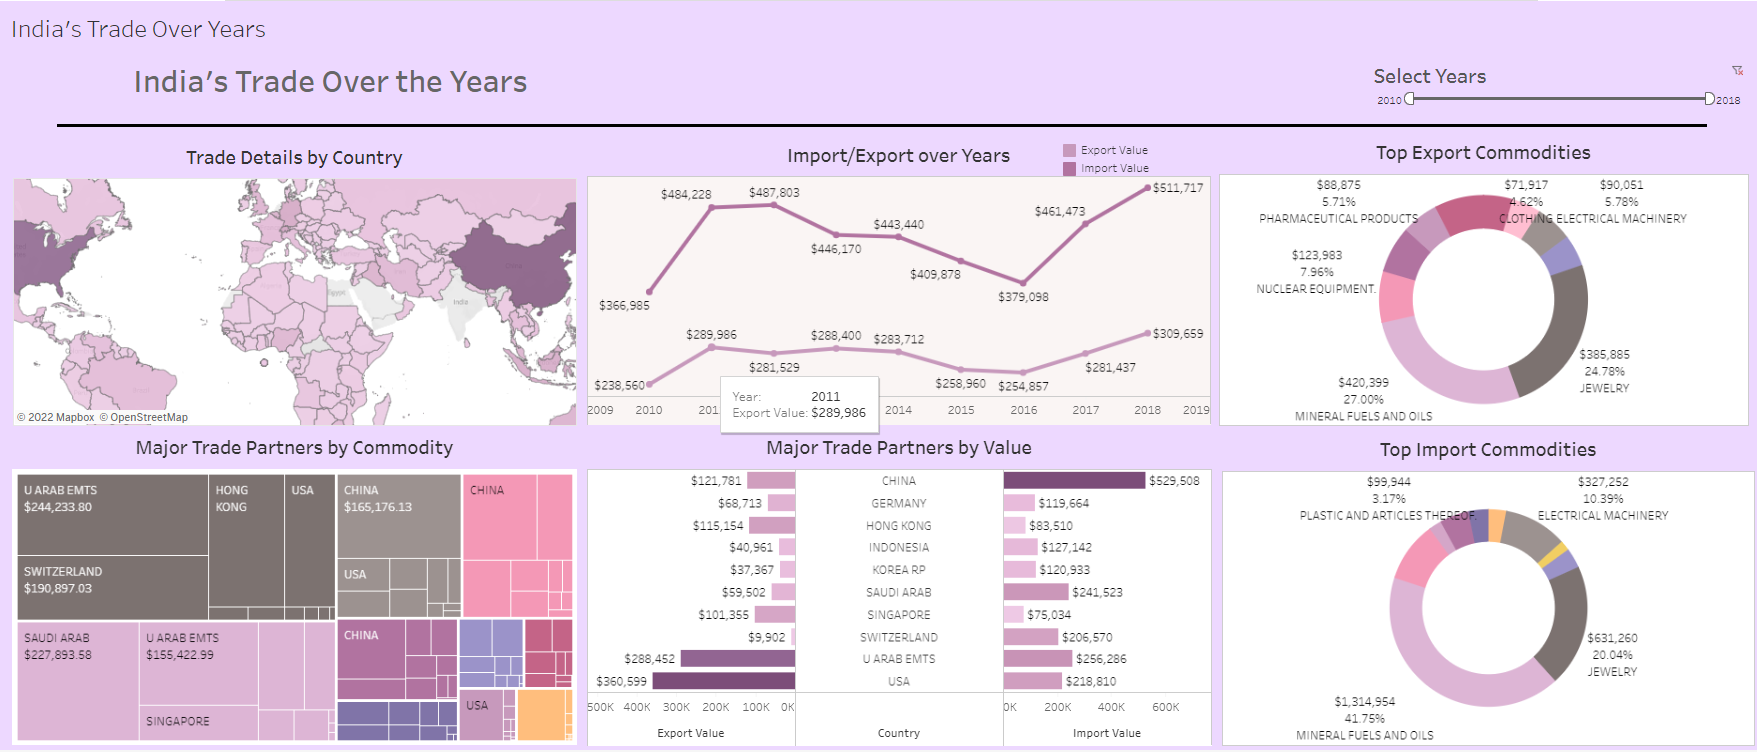

The page's visual inventory and layout, read from the dashboard file:
{"tool":"tableau","page":{"name":"India's Trade Over Years","canvas":[1000,1000],"units":"permille","ordinal":0},"visuals":[{"type":"title","box":[4.8,9.3,990.3,58.1]},{"type":"text","box":[9.1,70.9,357.9,68.5]},{"type":"filter","title":"Import/Export over Years","param":"[federated.1u60l3v0wn3ac21cdd1en023pxeh].[none:year:qk]","box":[779.1,81.3,210.6,73.2]},{"type":"blank","box":[33.2,163.8,935.4,3.5]},{"type":"worksheet","title":"Top Export Commodities","mark":"Pie","rows":["Calculation_1341228295351496705","Calculation_1341228295351496705"],"box":[691.6,176.5,301.2,390.2]},{"type":"worksheet","title":"Import/Export over Years","mark":"Automatic","rows":["import_value","export_value"],"cols":["year"],"box":[333.1,180,354.2,385.6]},{"type":"worksheet","title":"Trade Details by Country","mark":"Multipolygon","box":[7.9,182.3,319.9,384.4]},{"type":"legend","title":"Import/Export over Years","param":"[federated.1u60l3v0wn3ac21cdd1en023pxeh].[:Measure Names]","box":[601.7,185.8,84.5,52.3]},{"type":"worksheet","title":"Major Trade Partners by Commodity","mark":"Automatic","box":[7.2,570.3,320.5,423.9]},{"type":"worksheet","title":"Major Trade Partners by Value","mark":"Automatic","rows":["country"],"cols":["export_value","Calculation_1341228295351496705","import_value"],"box":[333.1,570.3,354.9,423.9]},{"type":"worksheet","title":"Top Import Commodities","mark":"Pie","rows":["Calculation_1341228295351496705","Calculation_1341228295351496705"],"box":[693.4,572.6,303,421.6]}]}

Visuals, with their boxes on the dashboard's canvas, which has no fixed pixel size, in thousandths of its width and height (x1, y1, x2, y2). These are canvas units, not pixel positions in the 1757x752 screenshot, which may show the page scaled, cropped or inside an application window:
title: <bbox>5, 9, 995, 67</bbox>
text: <bbox>9, 71, 367, 139</bbox>
"Import/Export over Years" filter: <bbox>779, 81, 990, 154</bbox>
blank: <bbox>33, 164, 969, 167</bbox>
"Top Export Commodities" worksheet (Pie marks): <bbox>692, 176, 993, 567</bbox>
"Import/Export over Years" worksheet: <bbox>333, 180, 687, 566</bbox>
"Trade Details by Country" worksheet (Multipolygon marks): <bbox>8, 182, 328, 567</bbox>
"Import/Export over Years" legend: <bbox>602, 186, 686, 238</bbox>
"Major Trade Partners by Commodity" worksheet: <bbox>7, 570, 328, 994</bbox>
"Major Trade Partners by Value" worksheet: <bbox>333, 570, 688, 994</bbox>
"Top Import Commodities" worksheet (Pie marks): <bbox>693, 573, 996, 994</bbox>
